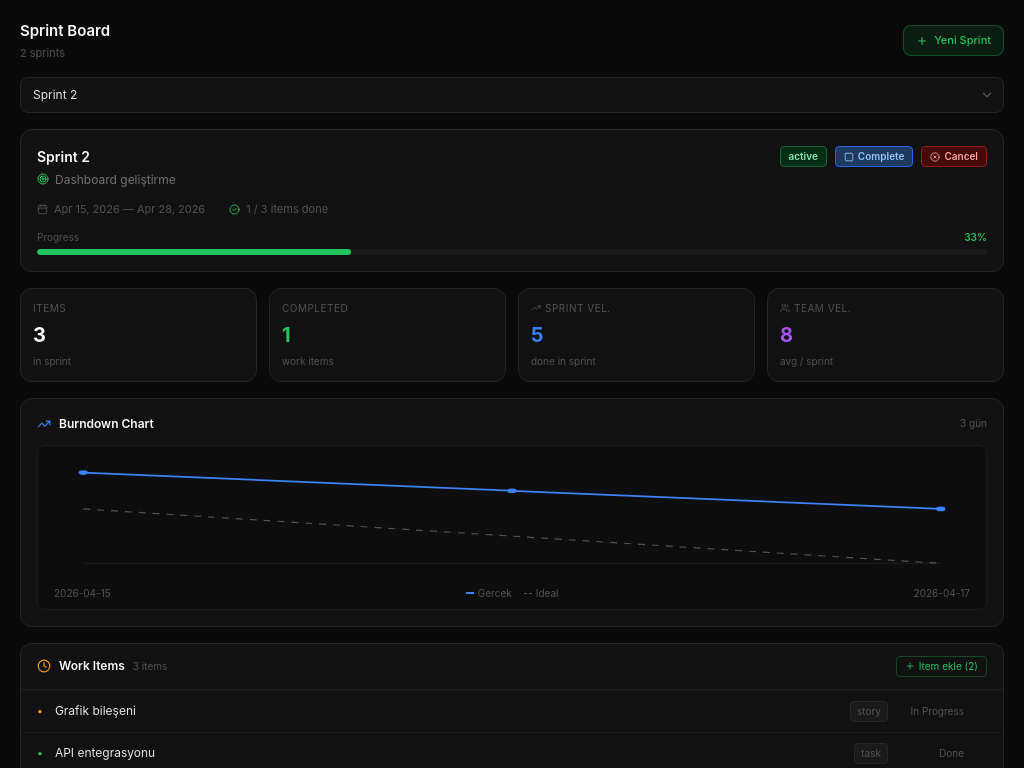
Test: SprintBoard — CreateSprintModal › modal kapatma butonu (X) ile modal kapanmalı
Click the button "Yeni Sprint".
click(954, 41)  # box [903,25,1004,56]
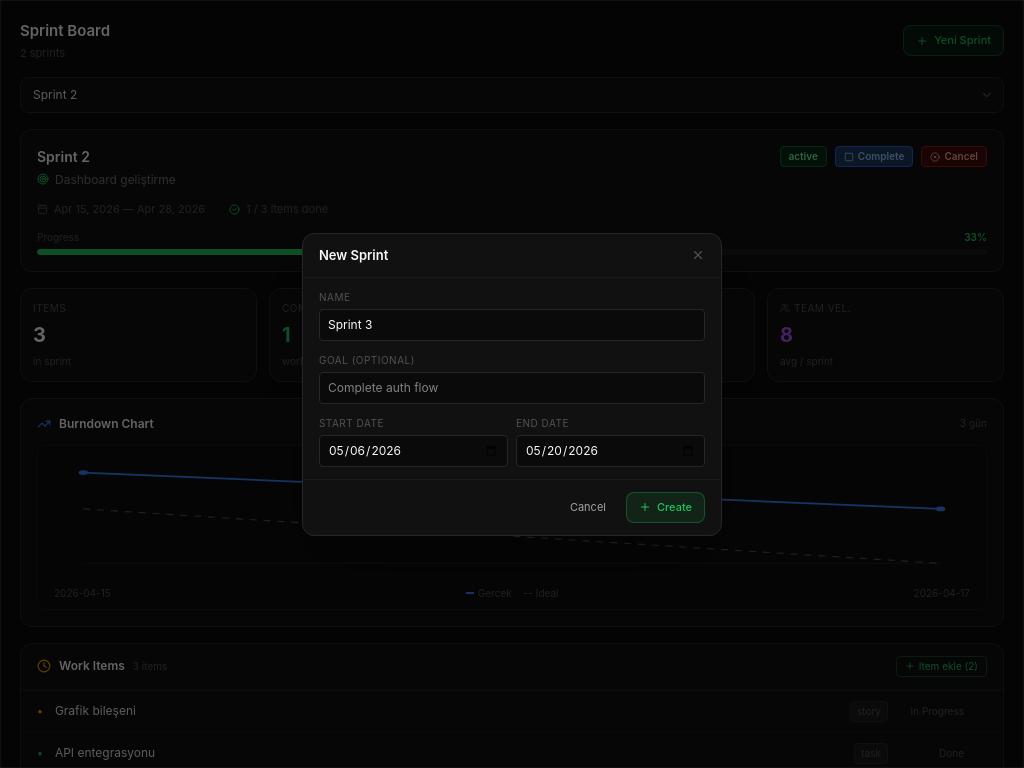
// Modal açık
Click the button named "Close".
click(698, 255)  # box [691,248,705,262]
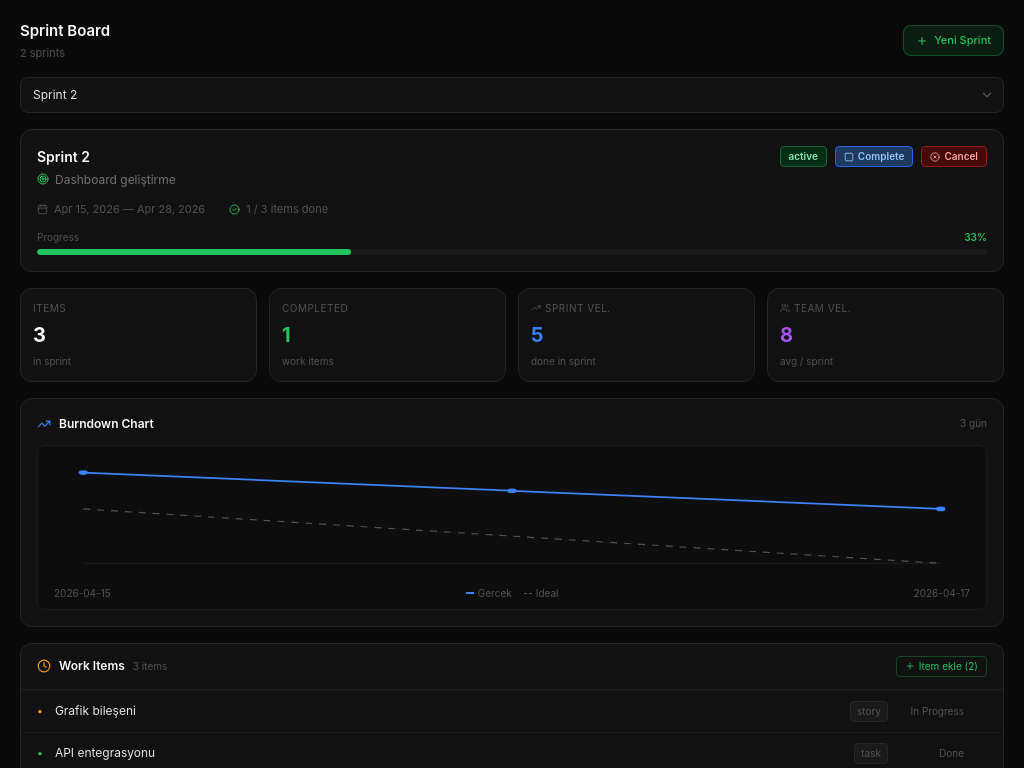
Expected: the heading "New Sprint" is gone
